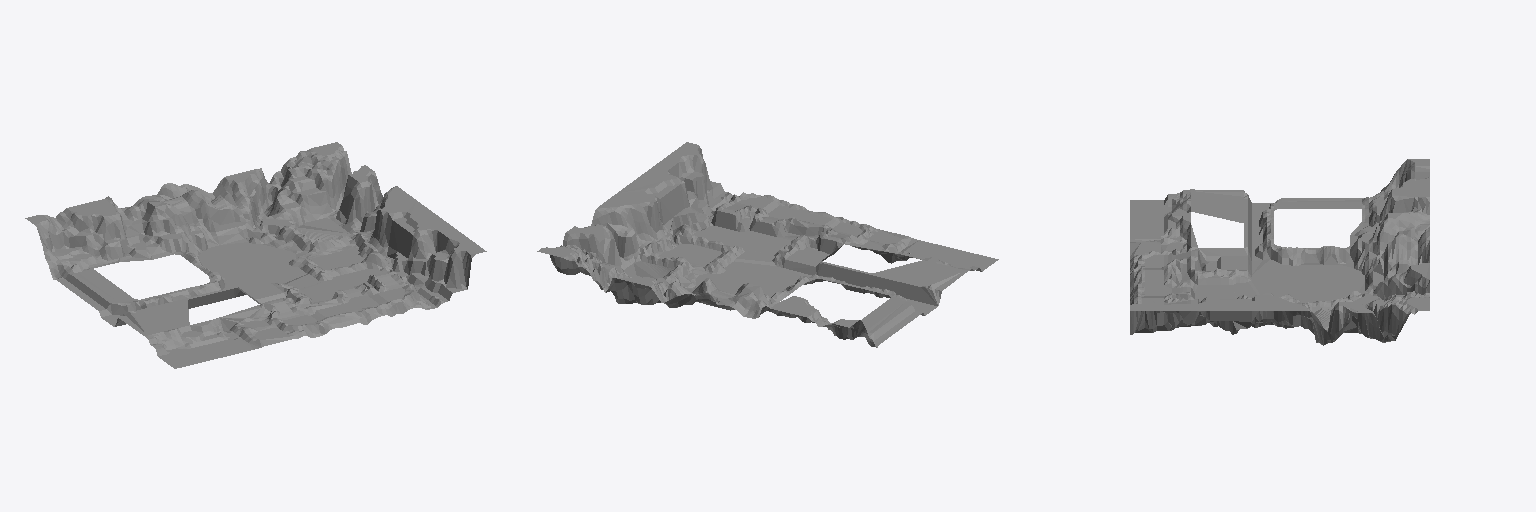
Rendered from QHXD.obj.
3 renders of one model, left to right at view 1: azimuth 30°, elevation 25°; view 2: azimuth 150°, elevation 25°; view 3: azimuth 270°, elevation 25°, orthographic.
Parts seen in each view (by area): view 1: QHXD:default1; view 2: QHXD:default1; view 3: QHXD:default1.
Boxes of the visible parts, box(x1,y1,x2,y2) form: QHXD:default1: box(25, 142, 486, 368); QHXD:default1: box(537, 142, 998, 347); QHXD:default1: box(1130, 159, 1429, 345).
Size of the model in its own units: 238 by 33.9 by 198.